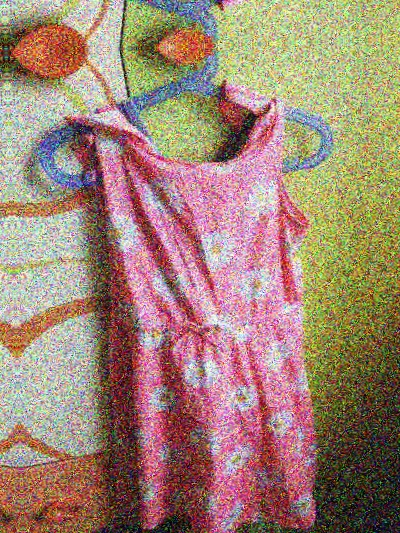Dress: (39, 61, 350, 533), (20, 0, 332, 31)
